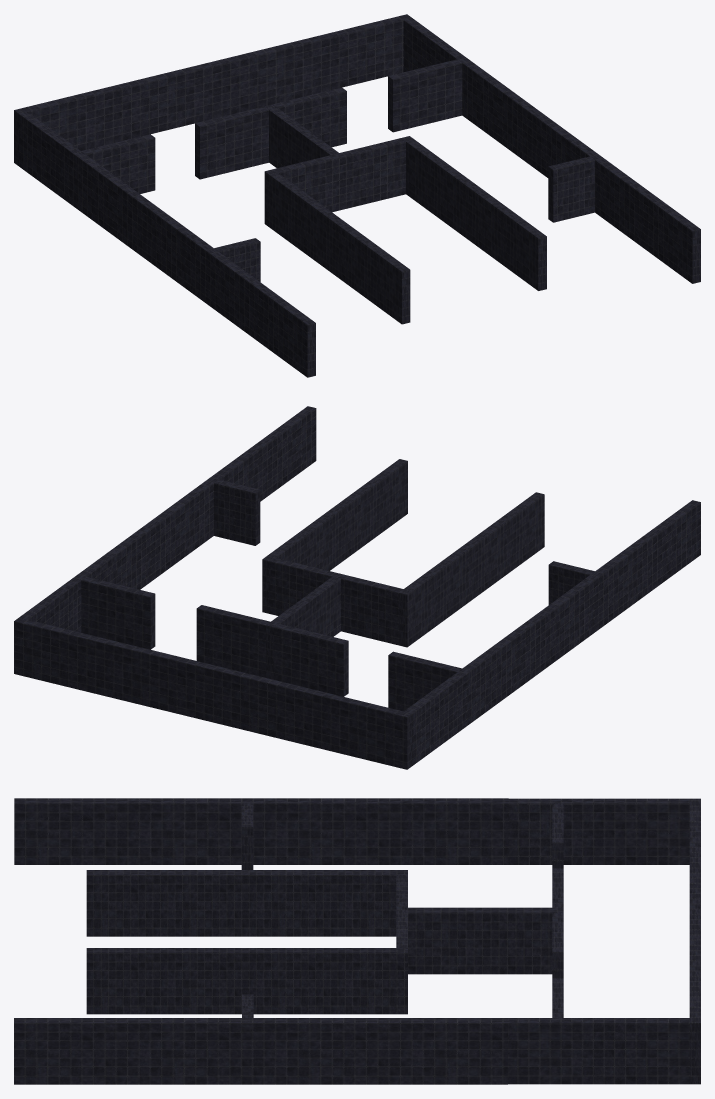
3 views of the same model, one above another, from view 1: azimuth 30°, elevation 25°; view 2: azimuth 150°, elevation 25°; view 3: azimuth 270°, elevation 25° (orthographic). The views are drawn at different scales.
Parts seen in each view (by area): view 1: pCube71, pCube9, pCube61, pCube63, pCube66, pCube68, pCube69, pCube67, pCube24, pCube62, pCube70; view 2: pCube71, pCube9, pCube61, pCube63, pCube66, pCube68, pCube24, pCube62, pCube69, pCube67, pCube70; view 3: pCube71, pCube61, pCube9, pCube62, pCube63, pCube70, pCube24, pCube67, pCube66, pCube68.
Part boxes in pixels (bbox=[...]): pCube71: bbox=[14, 14, 700, 377]; pCube9: bbox=[264, 169, 410, 324]; pCube61: bbox=[401, 136, 546, 290]; pCube63: bbox=[273, 138, 405, 212]; pCube66: bbox=[388, 59, 462, 132]; pCube68: bbox=[195, 106, 268, 179]; pCube69: bbox=[548, 156, 594, 222]; pCube67: bbox=[81, 134, 155, 193]; pCube24: bbox=[273, 87, 346, 147]; pCube62: bbox=[264, 104, 338, 167]; pCube70: bbox=[214, 238, 260, 281]; pCube71: bbox=[14, 406, 700, 769]; pCube9: bbox=[398, 492, 544, 647]; pCube61: bbox=[262, 459, 407, 613]; pCube63: bbox=[270, 558, 403, 645]; pCube66: bbox=[81, 576, 155, 649]; pCube68: bbox=[274, 624, 348, 696]; pCube24: bbox=[196, 605, 270, 677]; pCube62: bbox=[266, 576, 340, 679]; pCube69: bbox=[214, 479, 260, 545]; pCube67: bbox=[388, 651, 461, 711]; pCube70: bbox=[548, 561, 594, 604]; pCube71: bbox=[14, 798, 700, 1084]; pCube61: bbox=[86, 948, 407, 1014]; pCube9: bbox=[86, 870, 407, 936]; pCube62: bbox=[408, 907, 563, 974]; pCube63: bbox=[396, 875, 407, 947]; pCube70: bbox=[241, 803, 253, 869]; pCube24: bbox=[552, 912, 563, 978]; pCube67: bbox=[552, 803, 563, 868]; pCube66: bbox=[552, 978, 563, 1017]; pCube68: bbox=[552, 868, 563, 907].
Size of the model in its own units: 114 by 14.64 by 148.
1 material, 1 textured.
